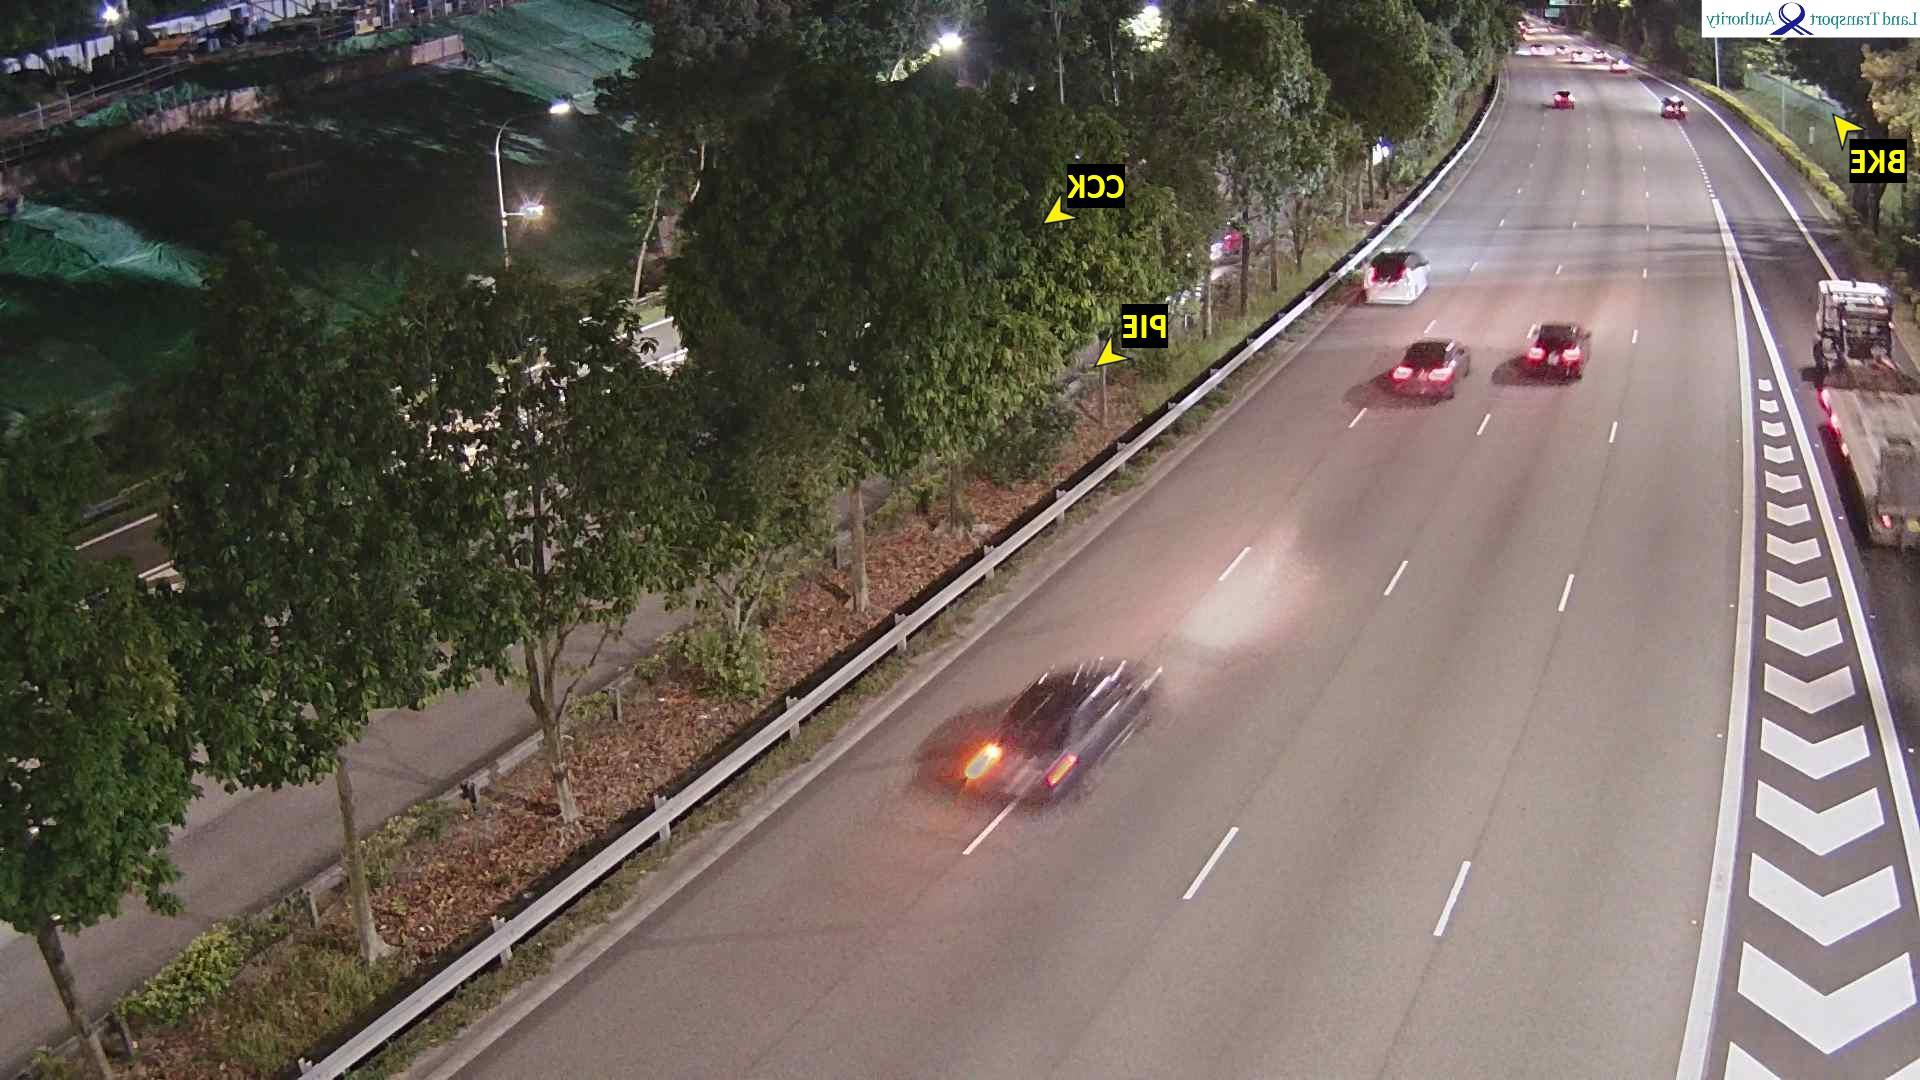cars: (960, 654, 1164, 808), (1389, 338, 1472, 400), (1526, 320, 1592, 381), (1364, 247, 1432, 305), (1211, 218, 1247, 265), (1662, 95, 1689, 117), (1553, 88, 1575, 109), (1571, 46, 1596, 63), (1611, 57, 1633, 73), (1534, 42, 1557, 55), (1596, 49, 1613, 65), (1516, 44, 1536, 55), (1557, 44, 1569, 58)
trucks: (1821, 270, 1908, 538)
